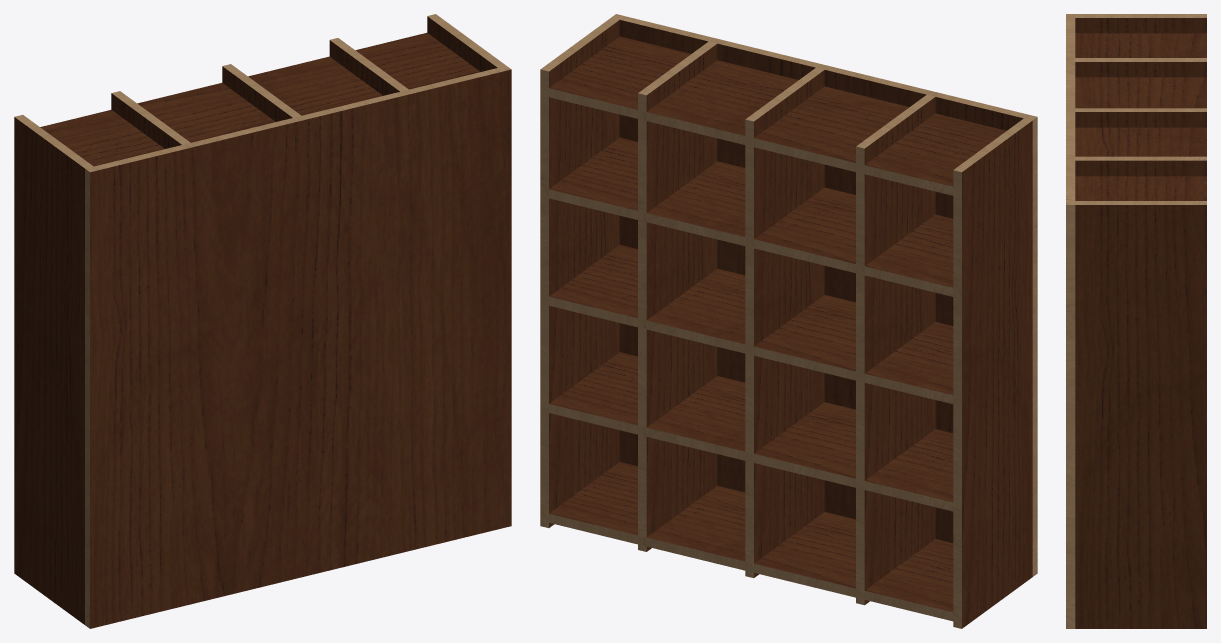
Rendered from self2.FBX.
3 views of the same model, side by side, from view 1: azimuth 30°, elevation 25°; view 2: azimuth 150°, elevation 25°; view 3: azimuth 270°, elevation 25° (orthographic). The views are drawn at different scales.
Visible parts, largest first — view 1: self1; view 2: self1; view 3: self1.
Boxes of the visible parts, x1,y1,x2,y2 form: self1: (14, 14, 511, 628); self1: (540, 14, 1037, 628); self1: (1066, 14, 1206, 628).
Size of the model in its own units: 14.52 by 15.03 by 4.52.
